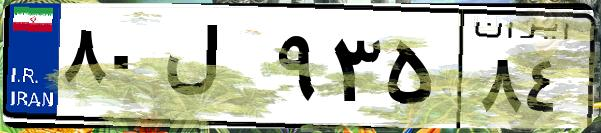0: (110, 28, 158, 98)
3: (330, 28, 385, 110)
4: (525, 38, 570, 115)
5: (385, 28, 445, 110)
8: (57, 26, 110, 100), (475, 38, 525, 113)
9: (270, 28, 330, 110)
ل: (158, 20, 270, 120)
